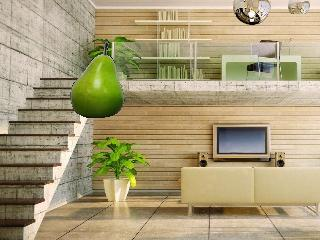pear: (67, 39, 127, 120)
